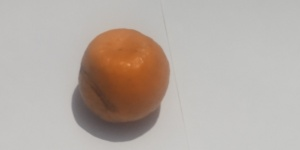BAD: (73, 28, 174, 125)
